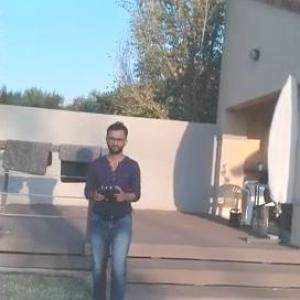follow: (79, 114, 148, 299)
